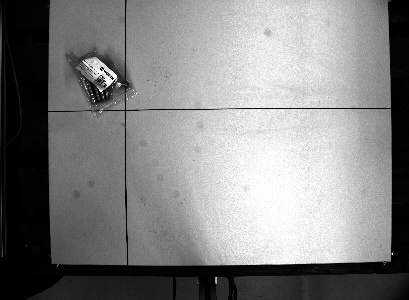t2: (63, 44, 139, 117)
